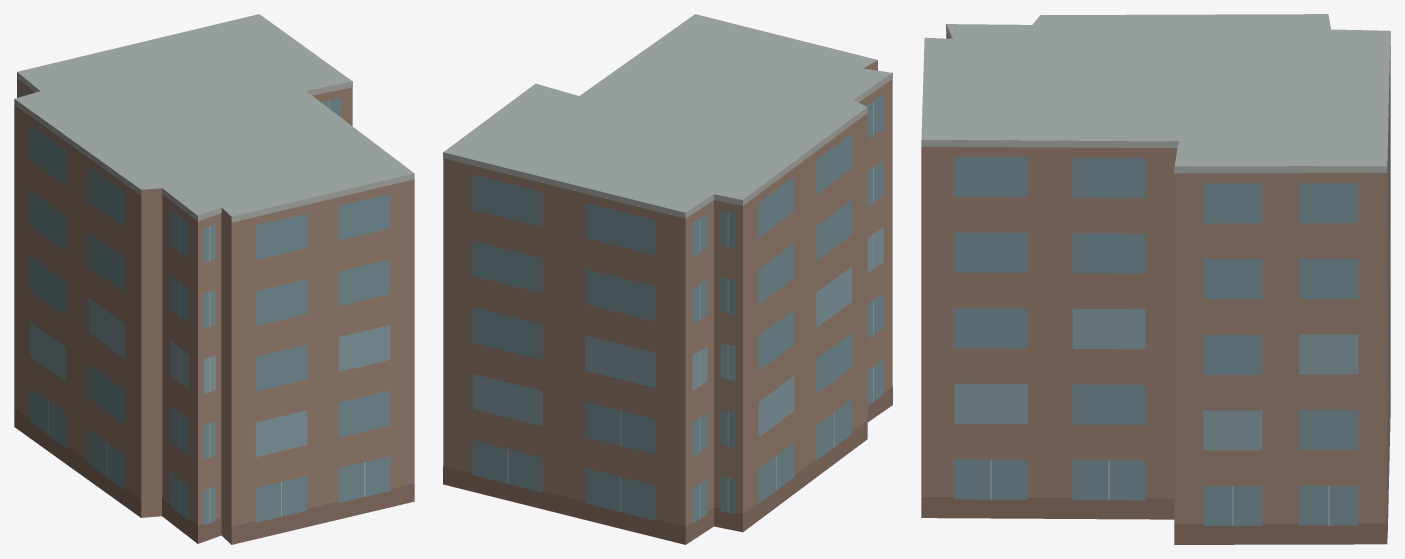
File: survey-upis-32892445.glb
3 views of the same model, side by side, from view 1: azimuth 30°, elevation 25°; view 2: azimuth 150°, elevation 25°; view 3: azimuth 270°, elevation 25° (orthographic). The views are drawn at different scales.
Parts seen in each view (by area): view 1: survey-upis-32892445.tmp; view 2: survey-upis-32892445.tmp; view 3: survey-upis-32892445.tmp.
Part boxes in pixels (x1=…): survey-upis-32892445.tmp: x1=14, y1=14, x2=414, y2=544; survey-upis-32892445.tmp: x1=443, y1=14, x2=892, y2=544; survey-upis-32892445.tmp: x1=921, y1=14, x2=1390, y2=544.
Size of the model in its own units: 11.88 by 13.7 by 15.42.
